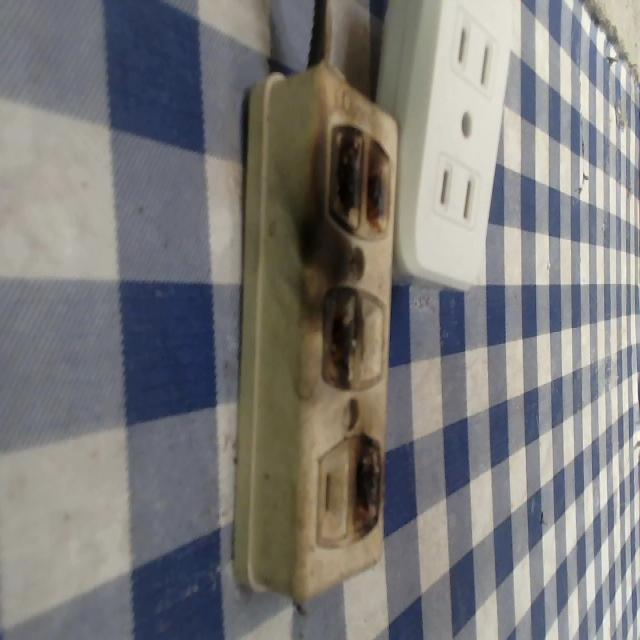-: (324, 122, 398, 246), (310, 284, 369, 392), (347, 424, 390, 539)
